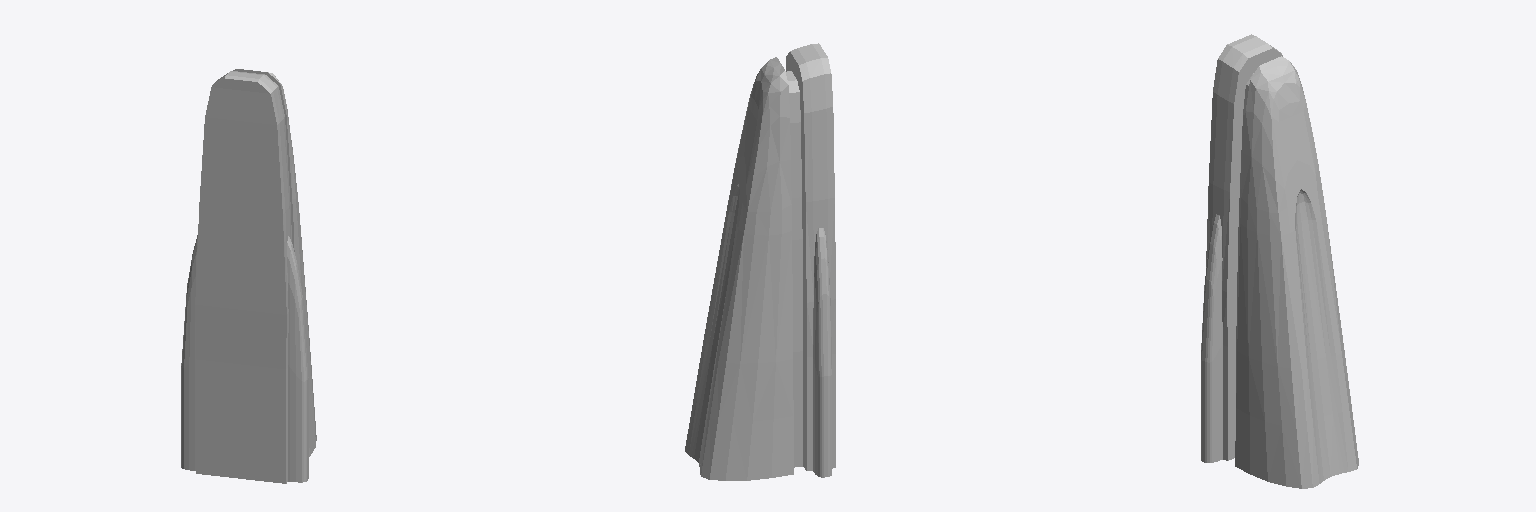
File: Pillar3.obj
3 renders of one model, left to right at view 1: azimuth 30°, elevation 25°; view 2: azimuth 150°, elevation 25°; view 3: azimuth 270°, elevation 25°, orthographic.
Visible parts, largest first — view 1: Pillar3; view 2: Pillar3; view 3: Pillar3.
Part boxes in pixels (left/top/right/bottom): Pillar3: left=181, top=69, right=316, bottom=483; Pillar3: left=685, top=43, right=835, bottom=480; Pillar3: left=1201, top=34, right=1358, bottom=488.
Bounding box in the file's own units: 9.37 × 26 × 9.37.